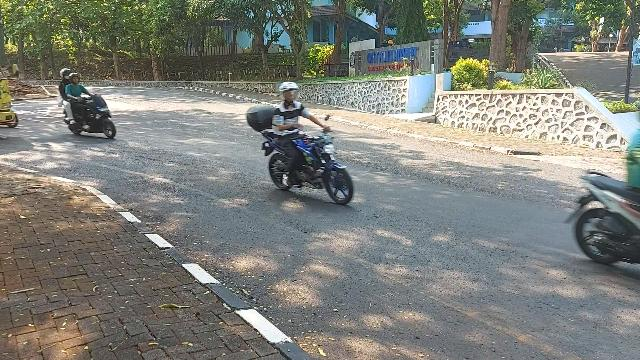helm: (280, 83, 300, 102), (70, 74, 81, 85), (62, 70, 73, 80)
motor: (262, 117, 354, 206), (65, 95, 117, 139)
